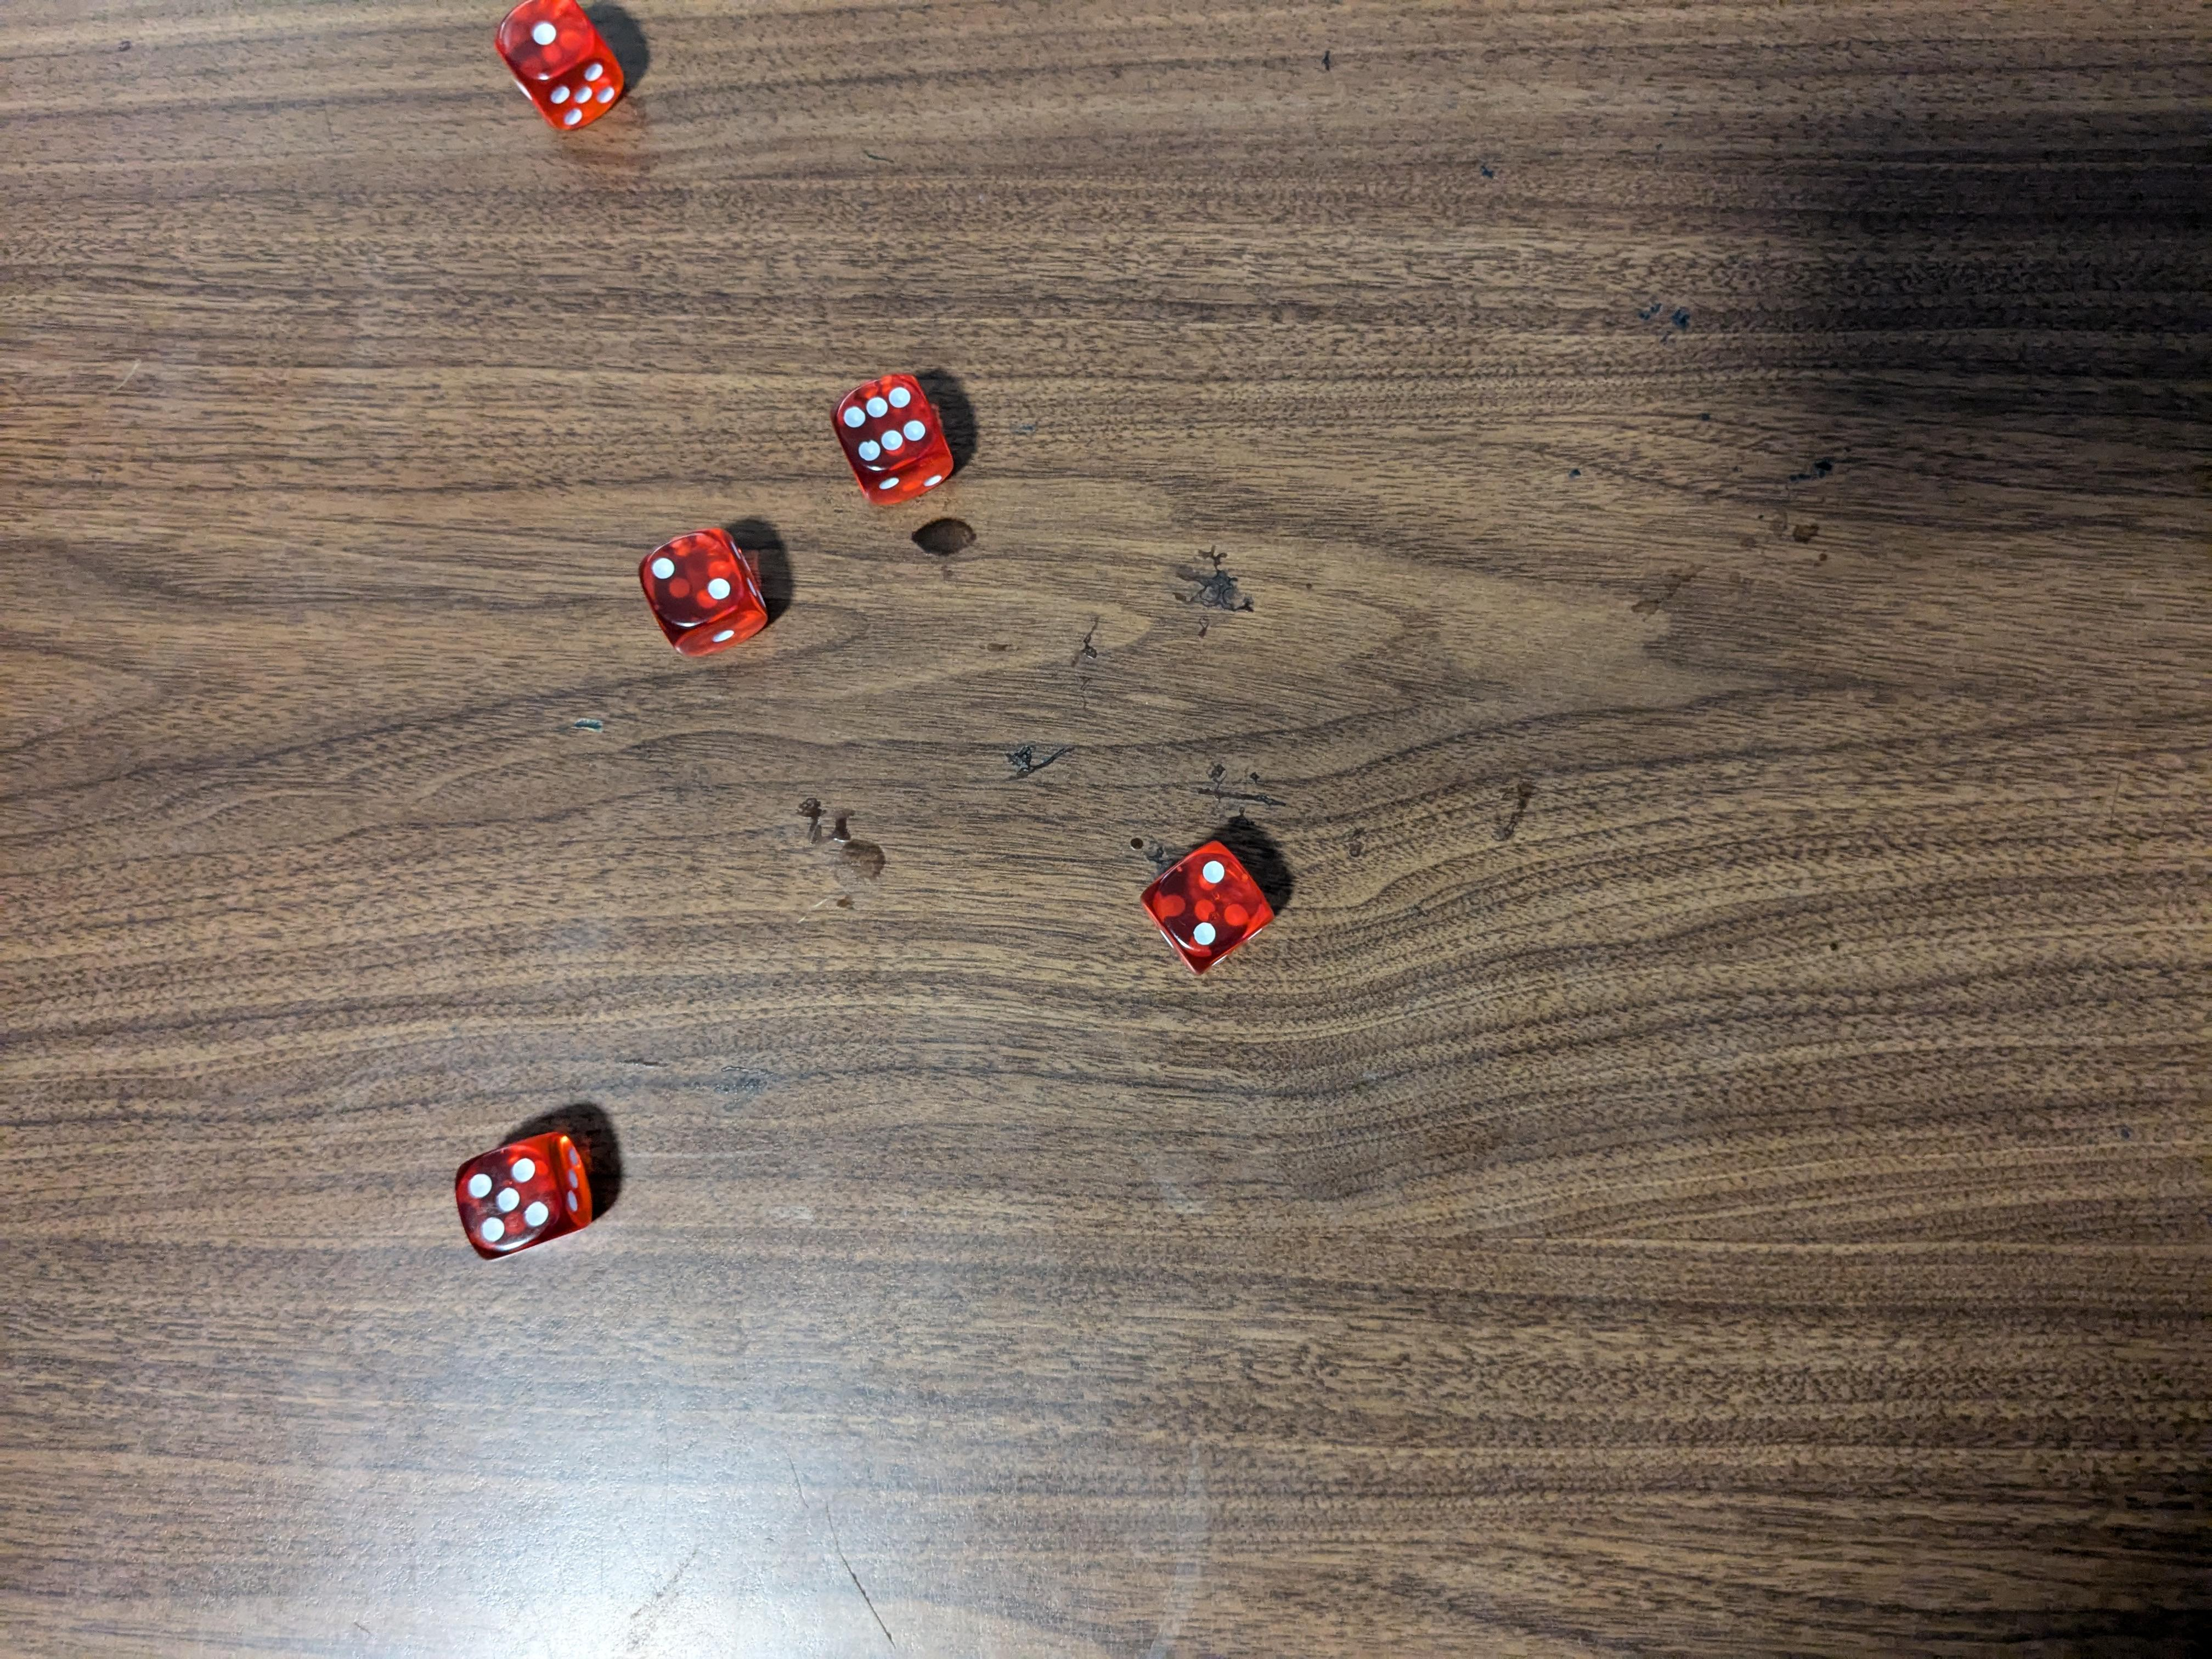five: (449, 1127, 599, 1263)
one: (489, 0, 632, 134)
six: (820, 368, 961, 507)
two: (1136, 835, 1278, 979), (629, 526, 779, 660)
